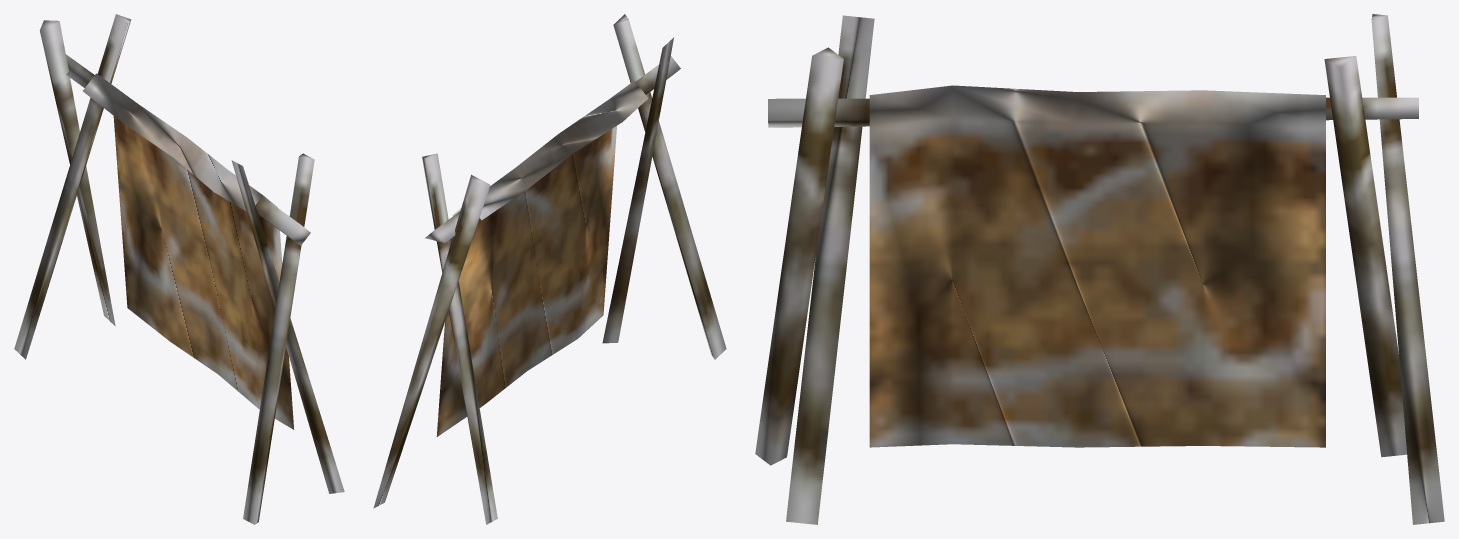
Rendered from nsm-general_obj_02_lod_01.glb.
3 renders of one model, left to right at view 1: azimuth 30°, elevation 25°; view 2: azimuth 150°, elevation 25°; view 3: azimuth 270°, elevation 25°, orthographic. The views are drawn at different scales.
Parts seen in each view (by area): view 1: Mesh01; view 2: Mesh01; view 3: Mesh01.
Part boxes in pixels (x1=…): Mesh01: x1=14, y1=14, x2=344, y2=524; Mesh01: x1=373, y1=14, x2=726, y2=524; Mesh01: x1=755, y1=14, x2=1444, y2=524.
Size of the model in its own units: 0.8393 by 2.66 by 3.61.
Materials: 1 (1 with a texture image).
